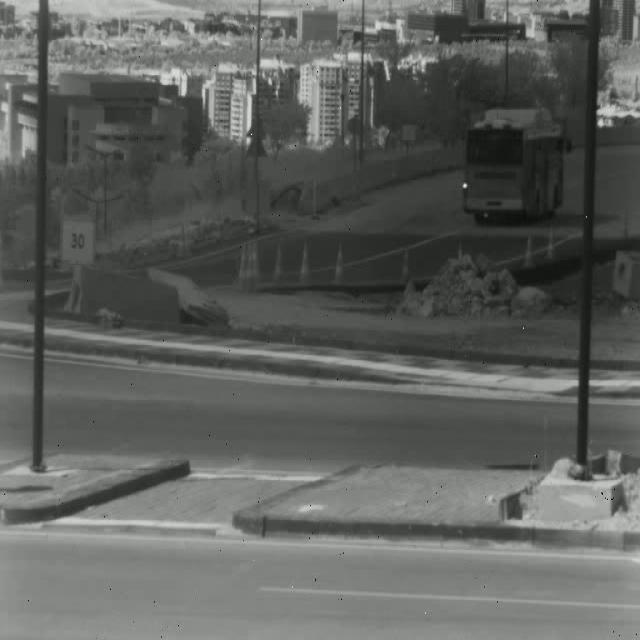Bus: (463, 109, 566, 222)
